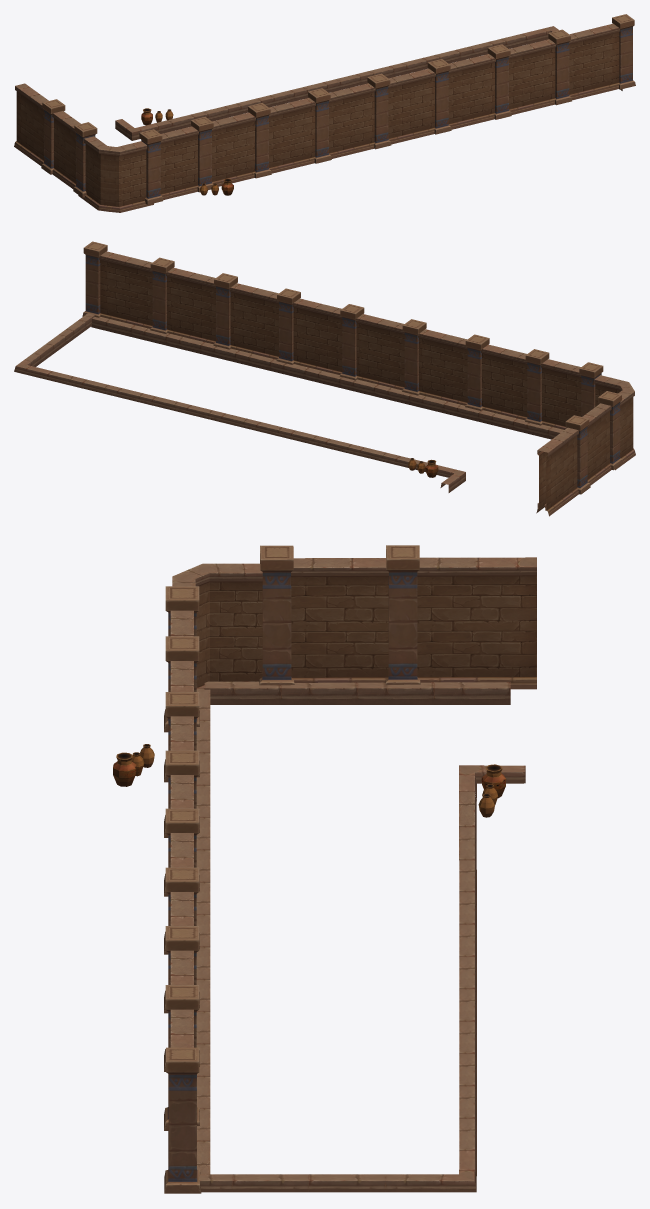
The model's file is Area_07_14.fbx.
The picture shows the model from 3 angles, top to bottom: view 1: azimuth 30°, elevation 25°; view 2: azimuth 150°, elevation 25°; view 3: azimuth 270°, elevation 25°; orthographic projection. The views are drawn at different scales.
Parts seen in each view (by area): view 1: Area_07_14; view 2: Area_07_14; view 3: Area_07_14.
Part boxes in pixels (x1,y1,x2,y2): Area_07_14: [14, 14, 635, 212]; Area_07_14: [14, 241, 635, 516]; Area_07_14: [113, 545, 536, 1193].
Size of the model in its own units: 4169 by 536 by 1444.
